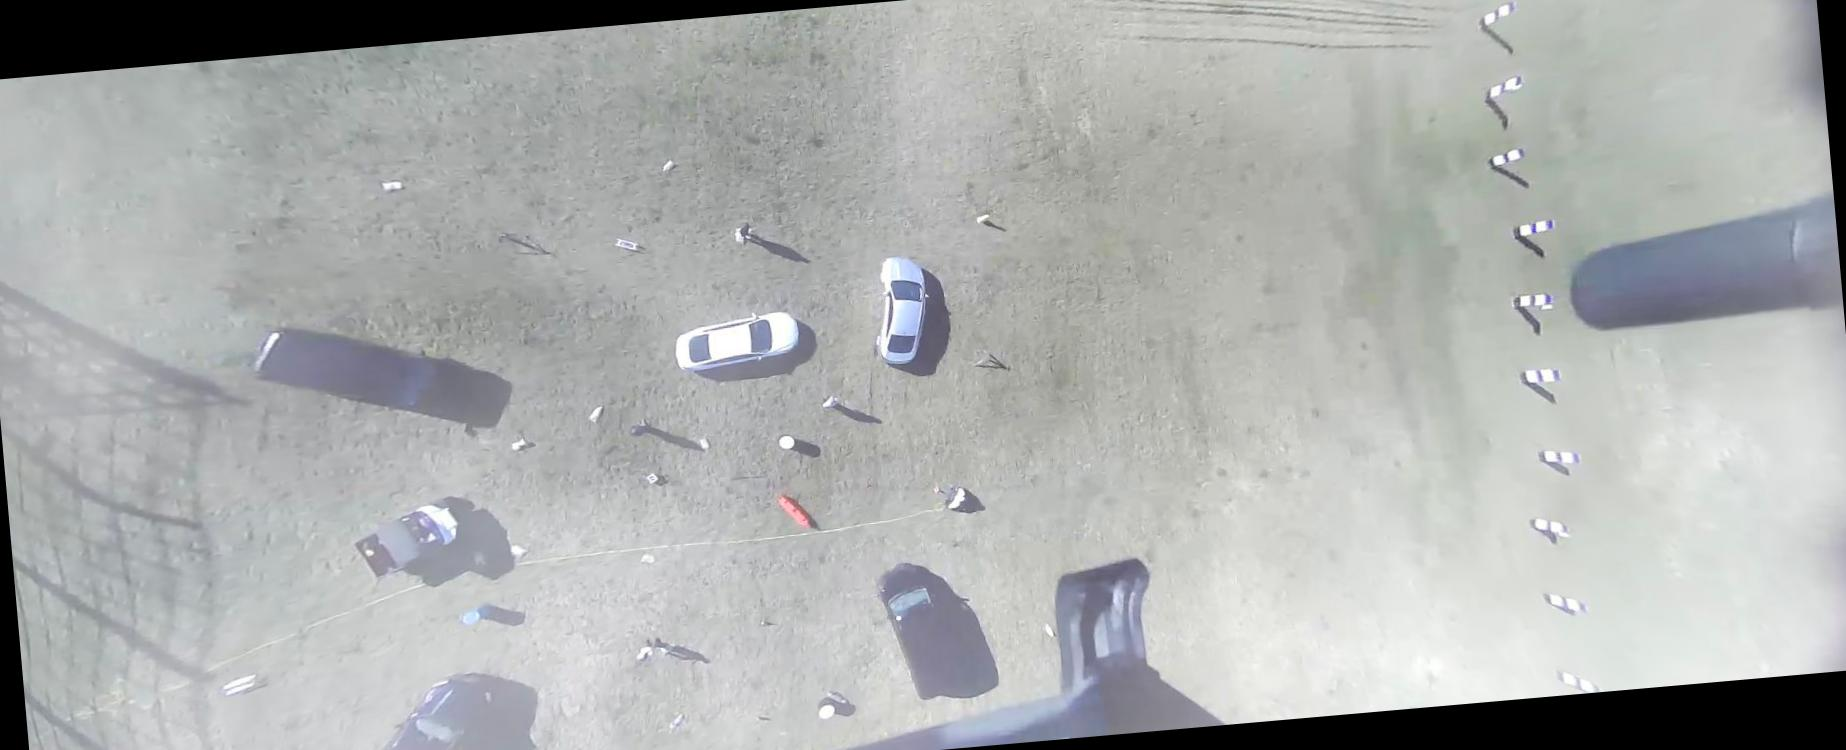vehicle: (245, 314, 466, 430), (340, 670, 507, 749), (873, 560, 964, 704), (348, 495, 471, 582), (670, 308, 804, 374), (867, 253, 935, 368)
